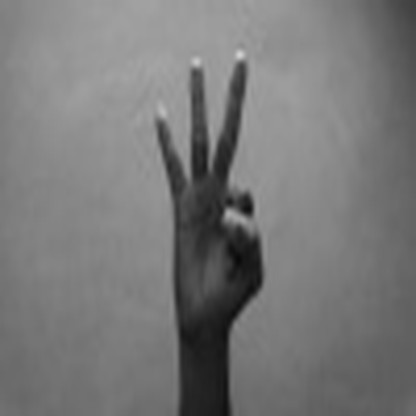f: (144, 44, 286, 324)
